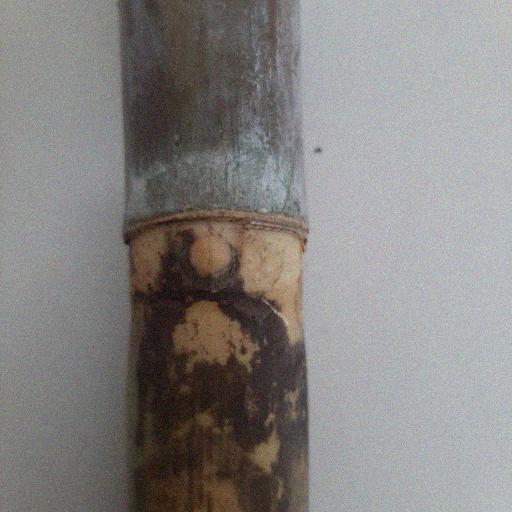Bud: (186, 229, 235, 286)
